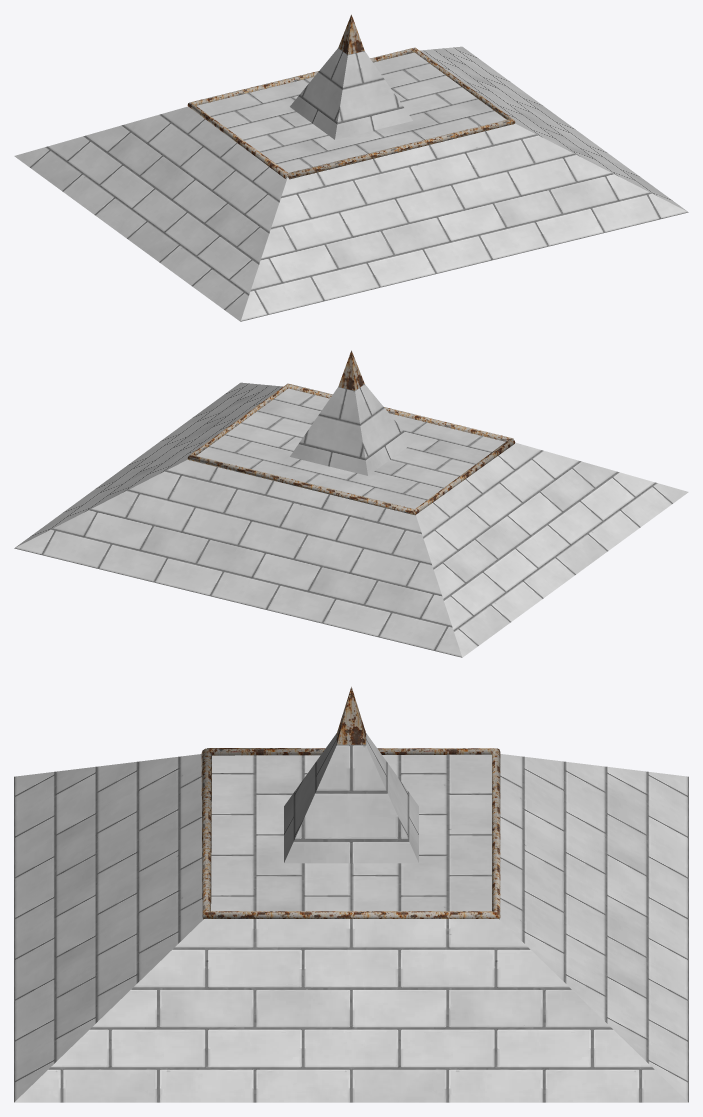
The model's file is RG_Funbox.glb.
The picture shows the model from 3 angles, top to bottom: view 1: azimuth 30°, elevation 25°; view 2: azimuth 150°, elevation 25°; view 3: azimuth 270°, elevation 25°; orthographic projection. The views are drawn at different scales.
Parts seen in each view (by area): view 1: RG_Funbox_Body, RG_Funbox_Coping; view 2: RG_Funbox_Body, RG_Funbox_Coping; view 3: RG_Funbox_Body, RG_Funbox_Coping.
Boxes of the visible parts, left/top/right/bottom form: RG_Funbox_Body: left=14, top=46, right=688, bottom=321; RG_Funbox_Coping: left=187, top=14, right=515, bottom=179; RG_Funbox_Body: left=14, top=382, right=688, bottom=657; RG_Funbox_Coping: left=187, top=350, right=515, bottom=515; RG_Funbox_Body: left=14, top=733, right=688, bottom=1102; RG_Funbox_Coping: left=201, top=686, right=500, bottom=919.
Bounding box in the file's own units: 8 × 2.9 × 7.
2 materials, 2 textured.
